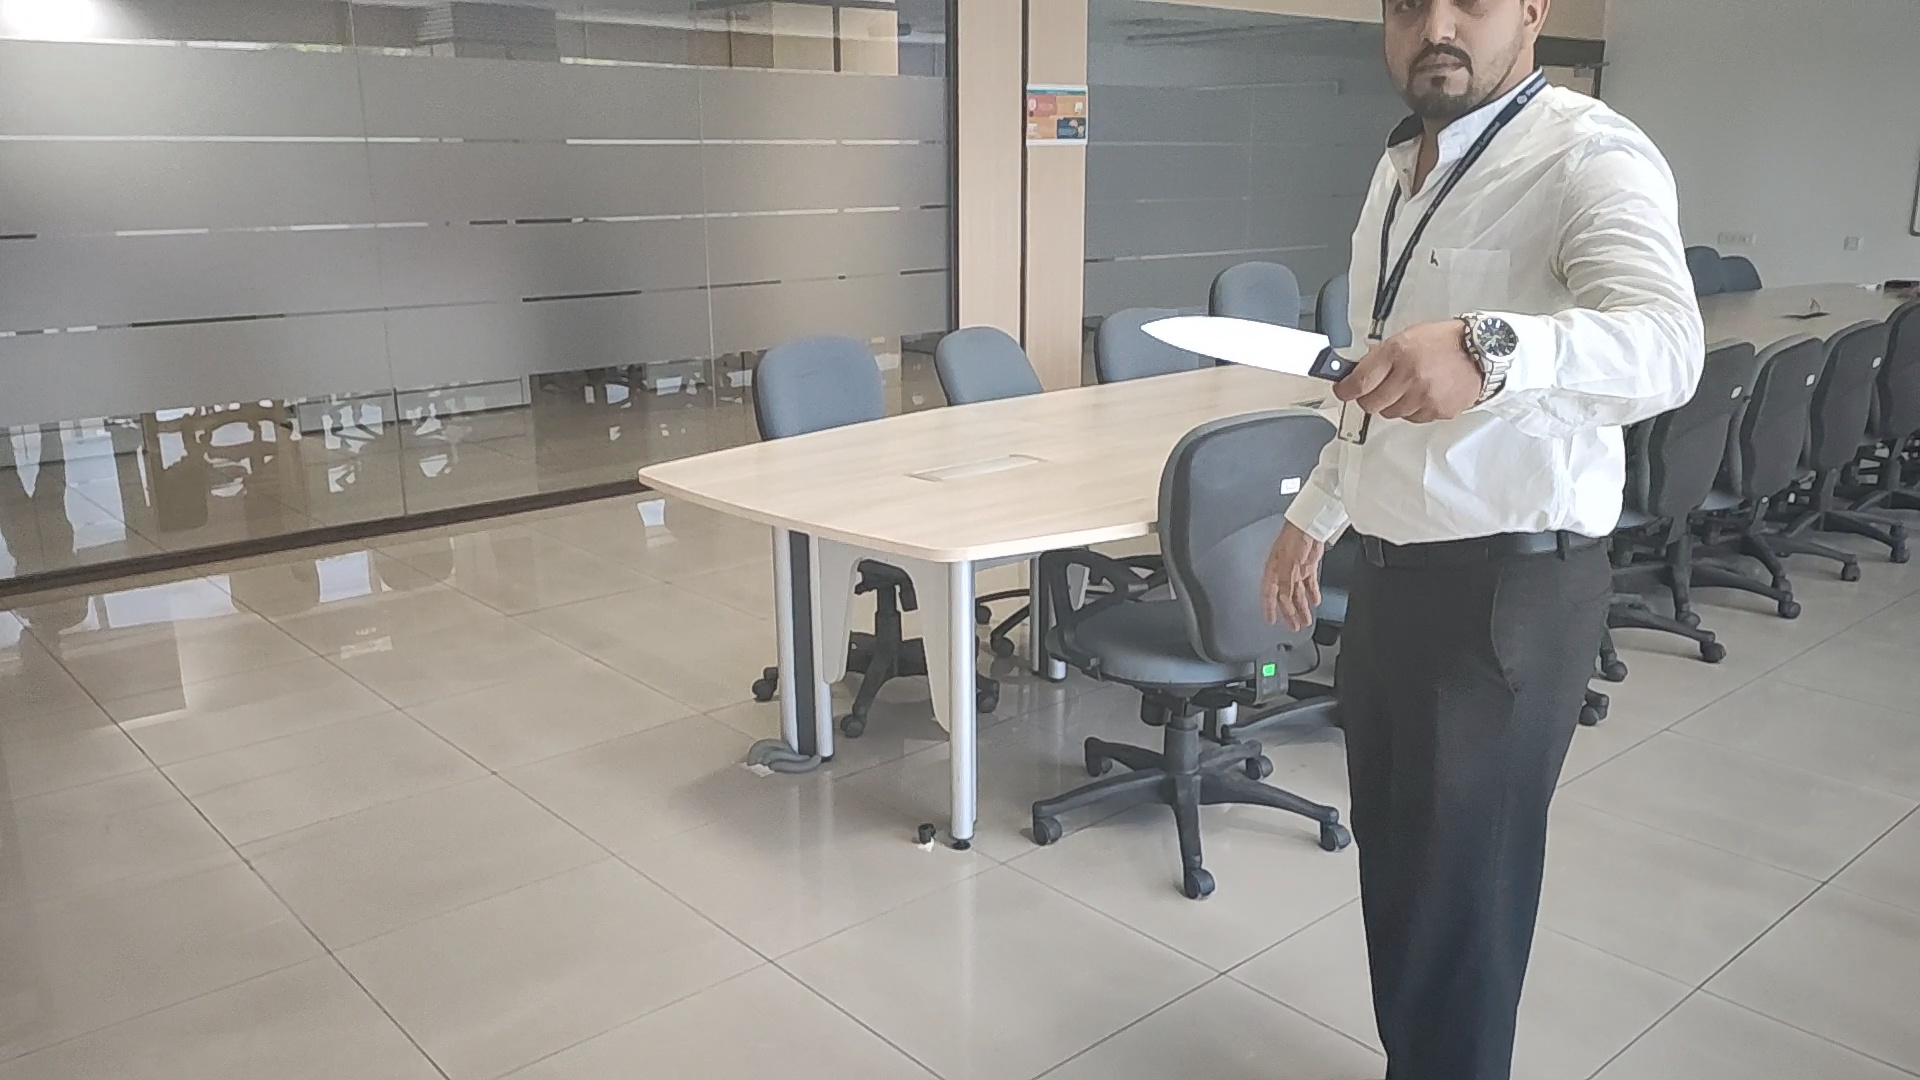knife: (1139, 310, 1356, 378)
